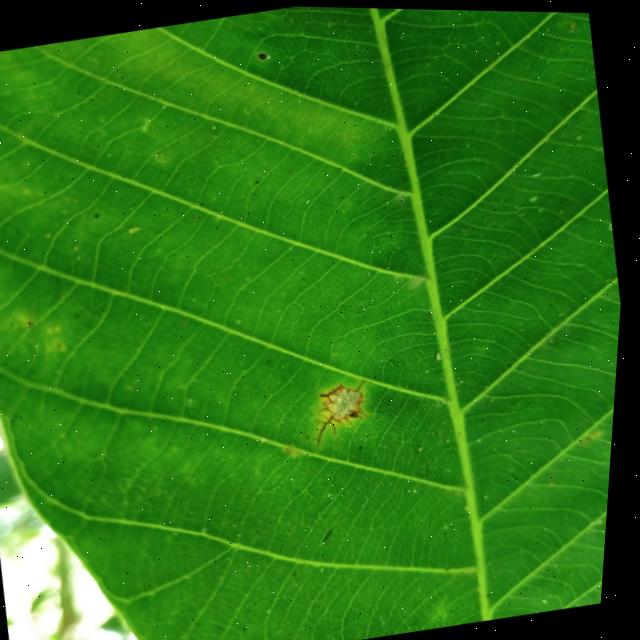Corynespora: (308, 374, 387, 452)
